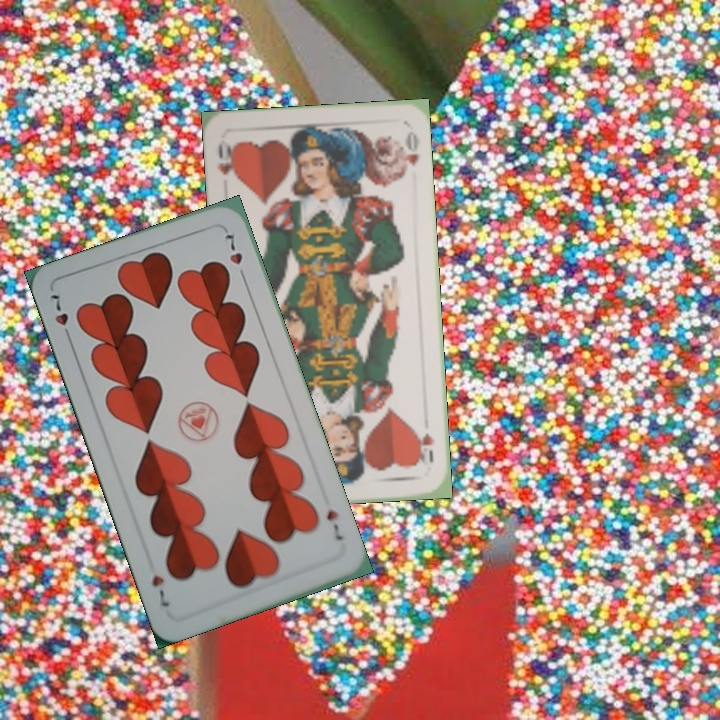H7: (46, 290, 75, 345), (322, 506, 345, 543)
HO: (213, 136, 239, 183), (413, 427, 437, 466)
